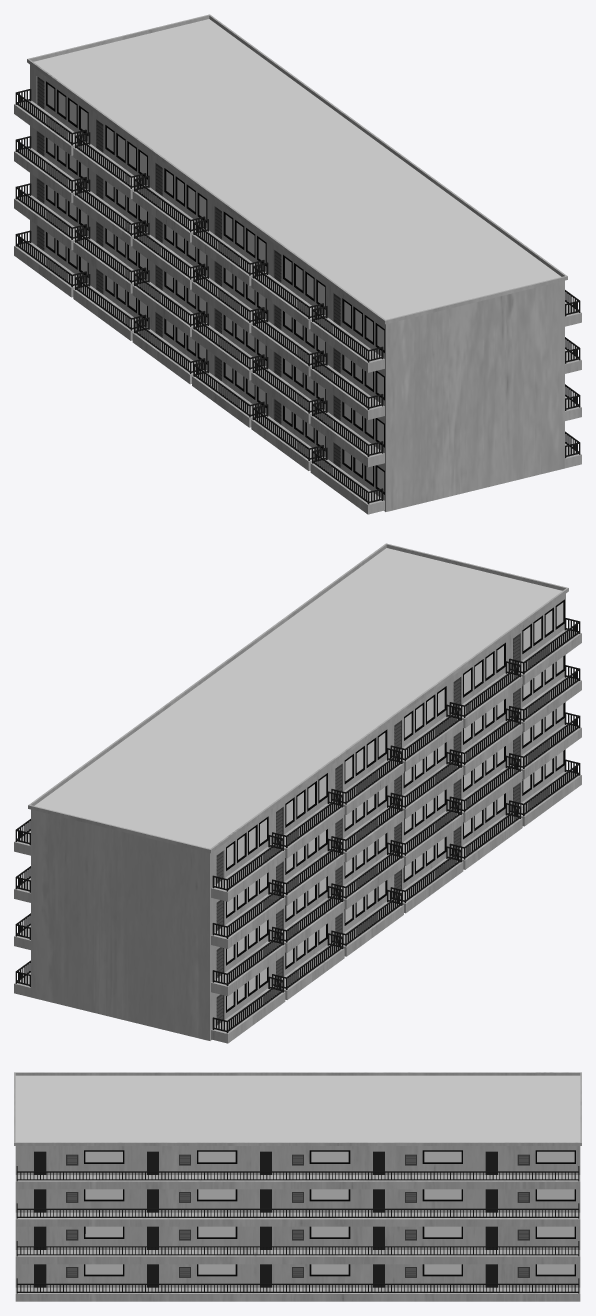
File: apartment.fbx
The picture shows the model from 3 angles, top to bottom: view 1: azimuth 30°, elevation 25°; view 2: azimuth 150°, elevation 25°; view 3: azimuth 270°, elevation 25°; orthographic projection. The views are drawn at different scales.
Visible parts, largest first — view 1: apartment; view 2: apartment; view 3: apartment.
Part boxes in pixels (x1,y1,x2,y2): apartment: (14,14,581,514); apartment: (14,543,581,1043); apartment: (14,1072,581,1301).
Bounding box in the file's own units: 1290 × 1113 × 3753.
Materials: 7 (1 with a texture image).
